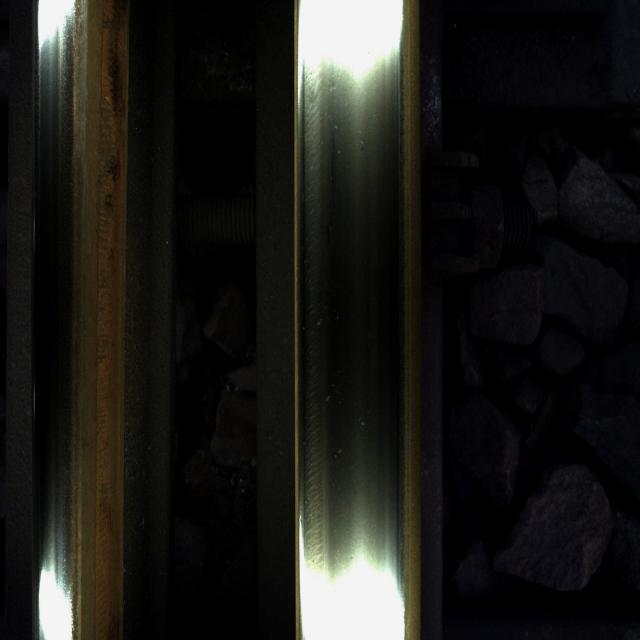break: (306, 54, 395, 574)
